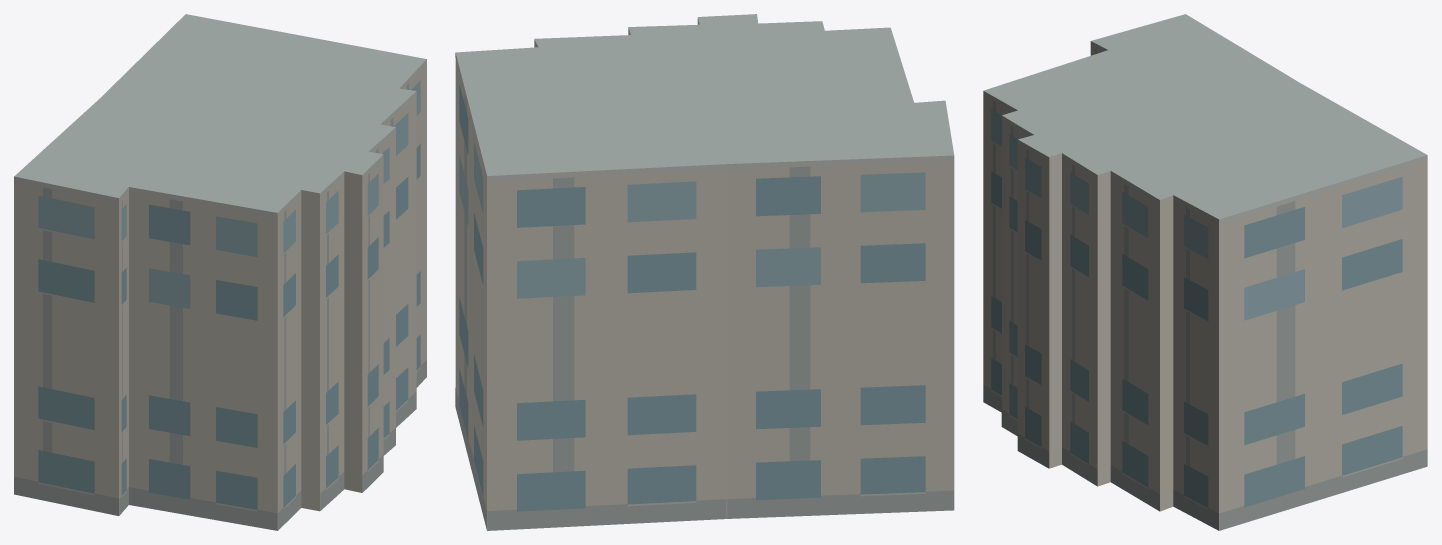
File: survey-upis-32591925.glb
3 views of the same model, side by side, from view 1: azimuth 30°, elevation 25°; view 2: azimuth 150°, elevation 25°; view 3: azimuth 270°, elevation 25° (orthographic). The views are drawn at different scales.
Parts seen in each view (by area): view 1: survey-upis-32591925.tmp; view 2: survey-upis-32591925.tmp; view 3: survey-upis-32591925.tmp.
Boxes of the visible parts, left/top/right/bottom form: survey-upis-32591925.tmp: left=14, top=14, right=426, bottom=530; survey-upis-32591925.tmp: left=455, top=14, right=954, bottom=530; survey-upis-32591925.tmp: left=983, top=14, right=1427, bottom=530.
Bounding box in the file's own units: 21.58 × 15.25 × 19.73.
